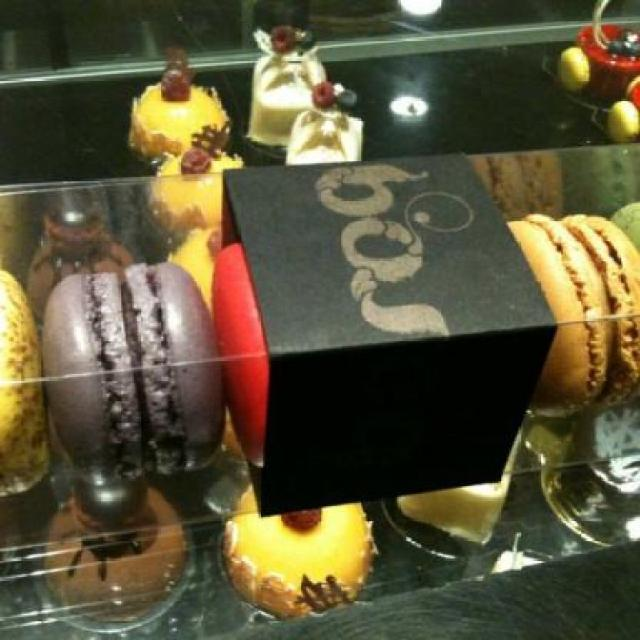Macaron: (2, 180, 640, 466)
